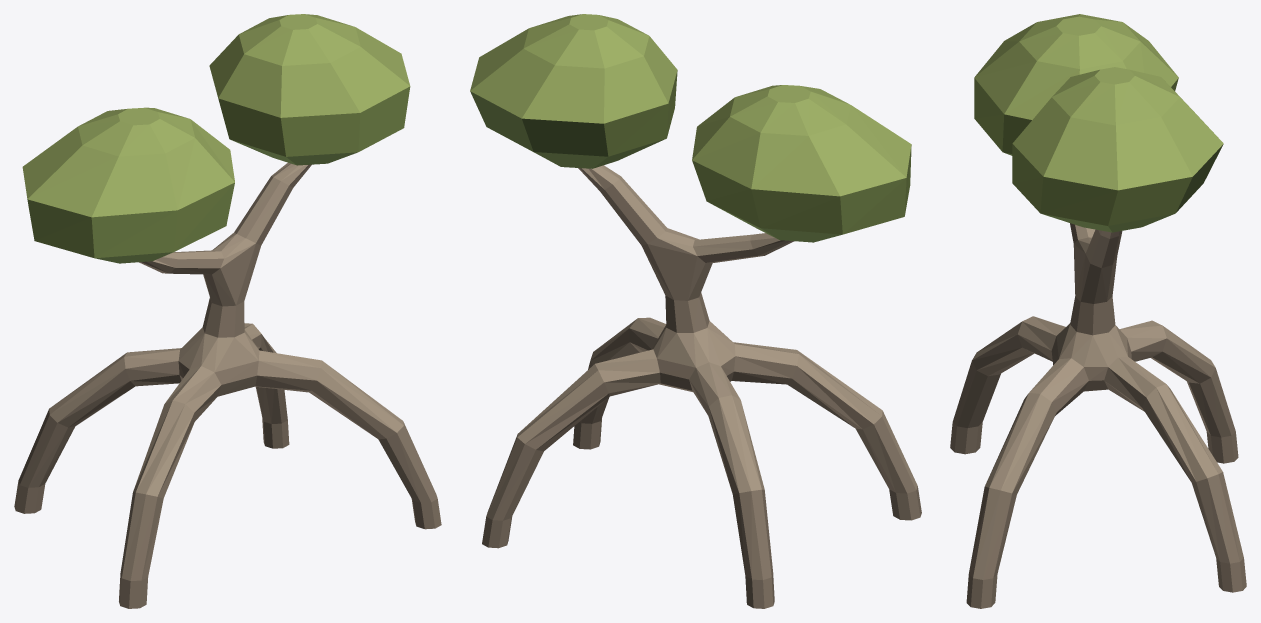
The picture shows the model from 3 angles, left to right: view 1: azimuth 30°, elevation 25°; view 2: azimuth 150°, elevation 25°; view 3: azimuth 270°, elevation 25°; orthographic projection. The views are drawn at different scales.
Parts seen in each view (by area): view 1: Wood_ContinuousPropRootTree, Crown_LeftLow, Crown_RightHigh; view 2: Wood_ContinuousPropRootTree, Crown_LeftLow, Crown_RightHigh; view 3: Wood_ContinuousPropRootTree, Crown_RightHigh, Crown_LeftLow.
Boxes of the visible parts, box(x1,y1,x2,y2) form: Wood_ContinuousPropRootTree: box(14, 162, 441, 608); Crown_LeftLow: box(22, 107, 234, 263); Crown_RightHigh: box(209, 14, 410, 165); Wood_ContinuousPropRootTree: box(482, 165, 921, 608); Crown_LeftLow: box(692, 85, 911, 242); Crown_RightHigh: box(470, 14, 677, 168); Wood_ContinuousPropRootTree: box(950, 223, 1246, 608); Crown_RightHigh: box(1012, 67, 1223, 232); Crown_LeftLow: box(974, 14, 1178, 155).
Size of the model in its own units: 2.12 by 2.42 by 1.32.
